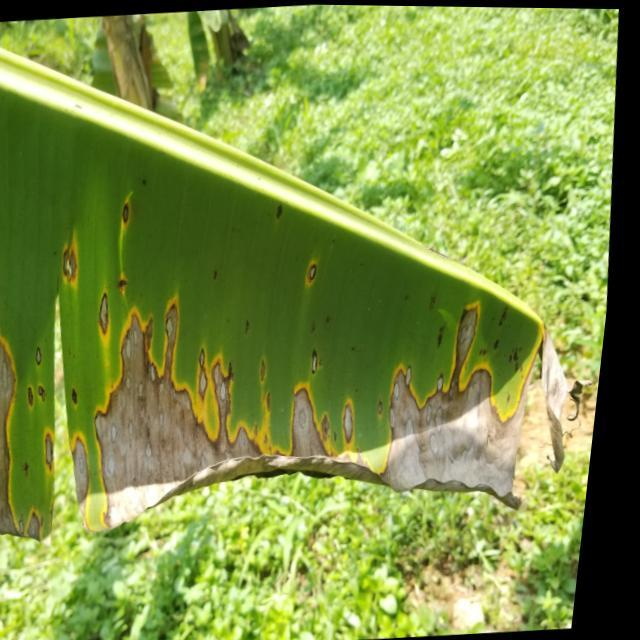Early_rust: (0, 153, 569, 549)
